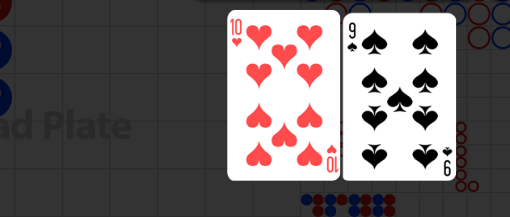10H: (230, 18, 244, 50)
9S: (441, 144, 454, 177)
